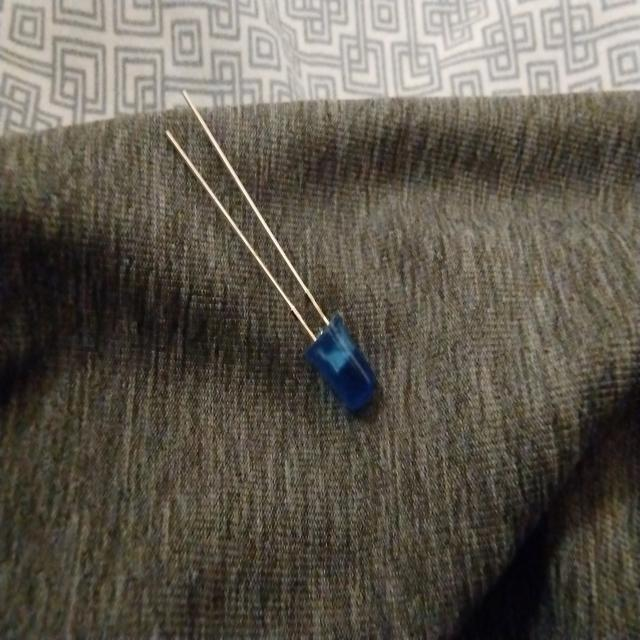blue_led: (302, 312, 378, 413)
